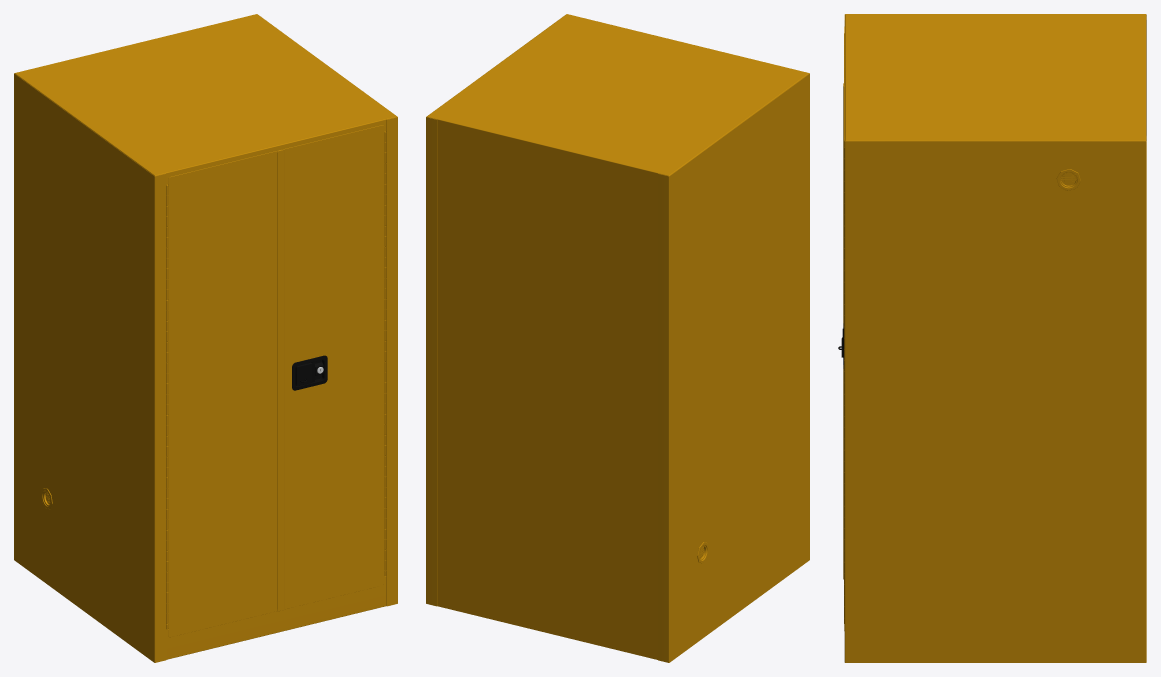
Rendered from cabinet_drum_flammable_a02.glb.
3 views of the same model, side by side, from view 1: azimuth 30°, elevation 25°; view 2: azimuth 150°, elevation 25°; view 3: azimuth 270°, elevation 25° (orthographic). The views are drawn at different scales.
Visible parts, largest first — view 1: sm_cabinet_drum_a02_mesh_00, sm_door2_a01_mesh_00, sm_door1_a01_mesh_00; view 2: sm_cabinet_drum_a02_mesh_00; view 3: sm_cabinet_drum_a02_mesh_00, sm_door1_a01_mesh_00.
Part boxes in pixels (x1,y1,x2,y2): sm_cabinet_drum_a02_mesh_00: (14, 14, 397, 662); sm_door2_a01_mesh_00: (166, 149, 281, 637); sm_door1_a01_mesh_00: (277, 125, 386, 611); sm_cabinet_drum_a02_mesh_00: (426, 14, 809, 662); sm_cabinet_drum_a02_mesh_00: (844, 14, 1146, 662); sm_door1_a01_mesh_00: (838, 83, 844, 630).
Bounding box in the file's own units: 0.8692 × 1.65 × 0.8835.
Materials: 6 (4 with a texture image).
